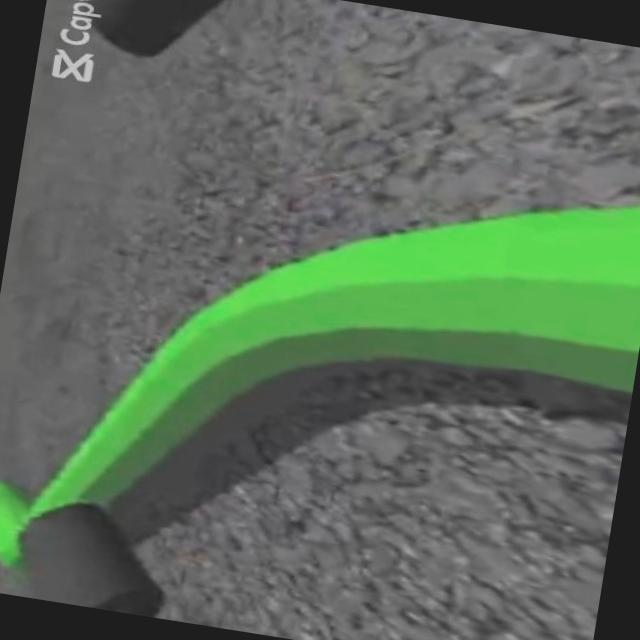gas: (58, 116, 640, 571)
